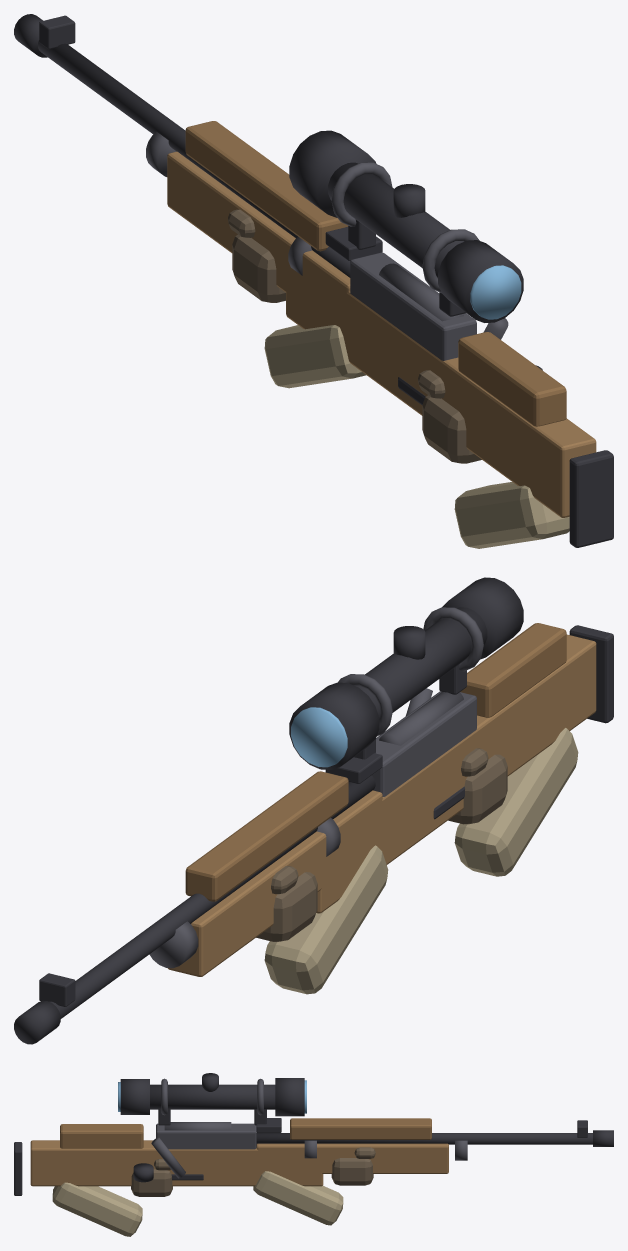
Rendered from sniper.glb.
The picture shows the model from 3 angles, top to bottom: view 1: azimuth 30°, elevation 25°; view 2: azimuth 150°, elevation 25°; view 3: azimuth 270°, elevation 25°; orthographic projection. The views are drawn at different scales.
Visible parts, largest first — view 1: Snayper; view 2: Snayper; view 3: Snayper.
Part boxes in pixels (bbox=[...]): Snayper: bbox=[14, 14, 613, 548]; Snayper: bbox=[14, 577, 613, 1044]; Snayper: bbox=[14, 1073, 613, 1236].
Bounding box in the file's own units: 0.1439 × 0.4131 × 1.43.
